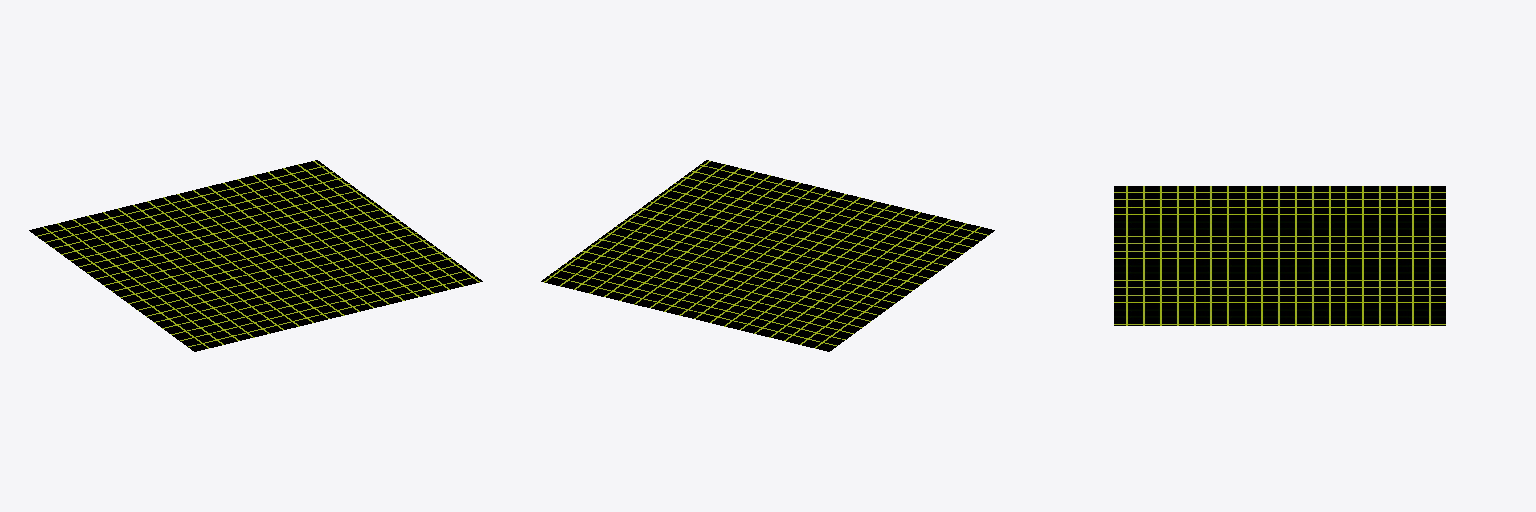
3 renders of one model, left to right at view 1: azimuth 30°, elevation 25°; view 2: azimuth 150°, elevation 25°; view 3: azimuth 270°, elevation 25°, orthographic.
Visible parts, largest first — view 1: Plane001; view 2: Plane001; view 3: Plane001.
Boxes of the visible parts, x1=… form: Plane001: x1=29, y1=160, x2=482, y2=351; Plane001: x1=541, y1=160, x2=994, y2=351; Plane001: x1=1114, y1=186, x2=1445, y2=325.
Bounding box in the file's own units: 2090 × 0 × 2083.
2 materials, 1 textured.